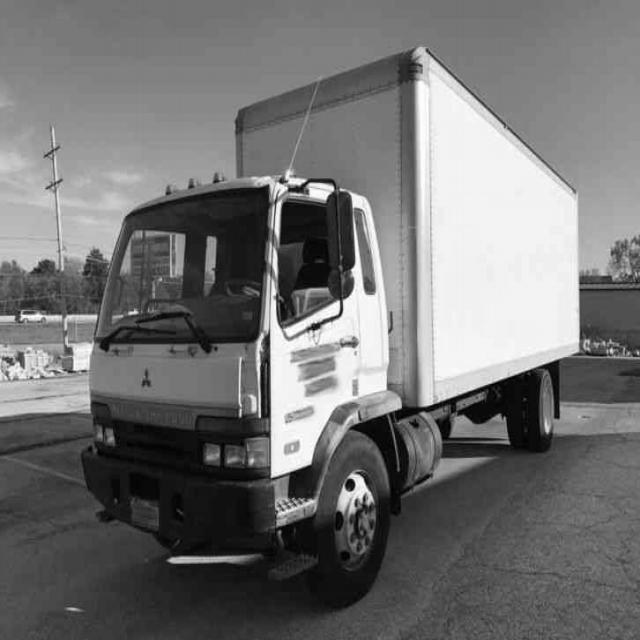truck: (60, 145, 426, 601)
